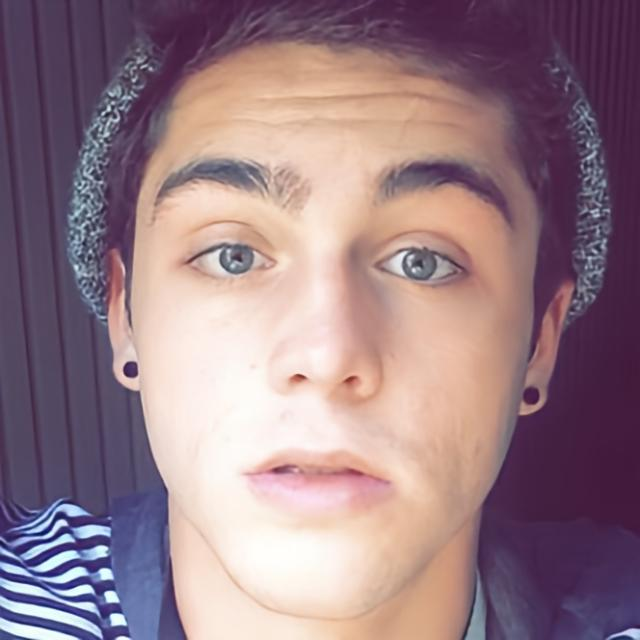surprise: (131, 40, 545, 623)
